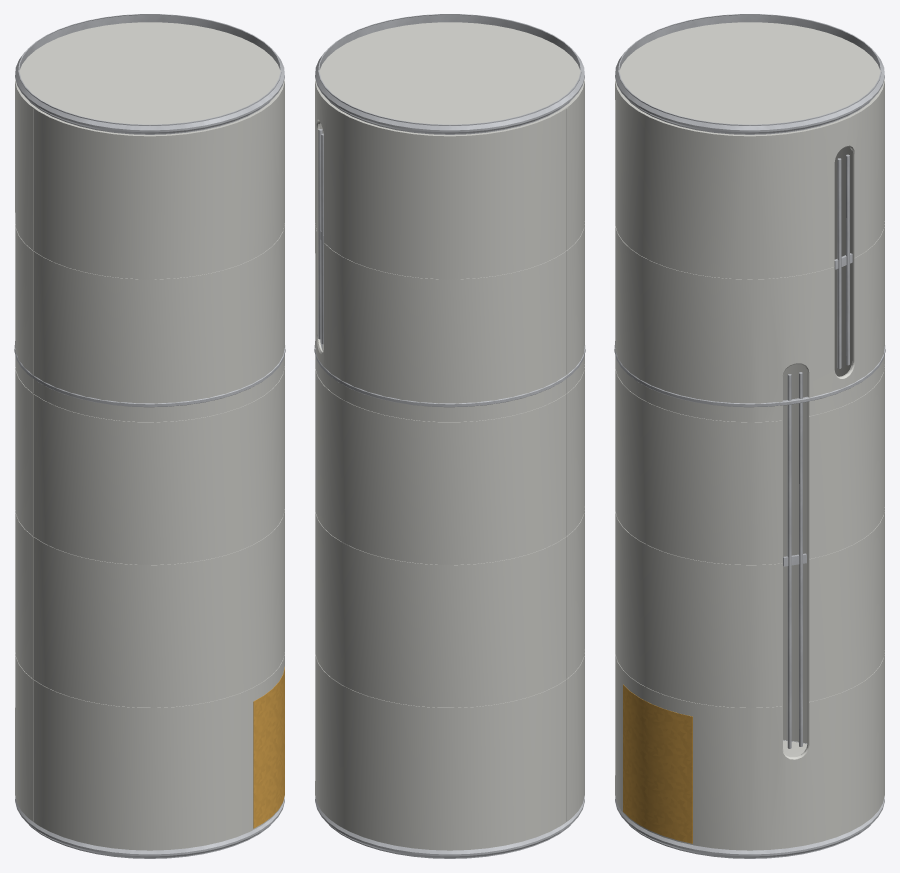
The model's file is ax_tank_03_heavy_methalox_xl_long.glb.
The picture shows the model from 3 angles, left to right: view 1: azimuth 30°, elevation 25°; view 2: azimuth 150°, elevation 25°; view 3: azimuth 270°, elevation 25°; orthographic projection.
Parts seen in each view (by area): view 1: tank_barrel, dome_caps, end_rings, mli_patch, common_bulkhead_ring; view 2: tank_barrel, dome_caps, end_rings, raceway_lines, common_bulkhead_ring; view 3: tank_barrel, dome_caps, mli_patch, end_rings, raceway_lines, common_bulkhead_ring.
Boxes of the visible parts, left/top/right/bottom form: tank_barrel: left=15, top=79, right=284, bottom=850; dome_caps: left=19, top=22, right=280, bottom=133; end_rings: left=15, top=14, right=284, bottom=858; mli_patch: left=253, top=667, right=284, bottom=828; common_bulkhead_ring: left=14, top=341, right=285, bottom=407; tank_barrel: left=315, top=79, right=584, bottom=850; dome_caps: left=319, top=22, right=580, bottom=133; end_rings: left=315, top=14, right=584, bottom=858; raceway_lines: left=318, top=129, right=324, bottom=349; common_bulkhead_ring: left=314, top=341, right=585, bottom=407; tank_barrel: left=615, top=79, right=884, bottom=850; dome_caps: left=619, top=22, right=880, bottom=756; mli_patch: left=623, top=684, right=692, bottom=843; end_rings: left=615, top=14, right=884, bottom=858; raceway_lines: left=783, top=154, right=852, bottom=748; common_bulkhead_ring: left=614, top=341, right=885, bottom=407.
Size of the model in its own units: 5.02 by 15 by 5.02.
Materials: 3 (2 with a texture image).
